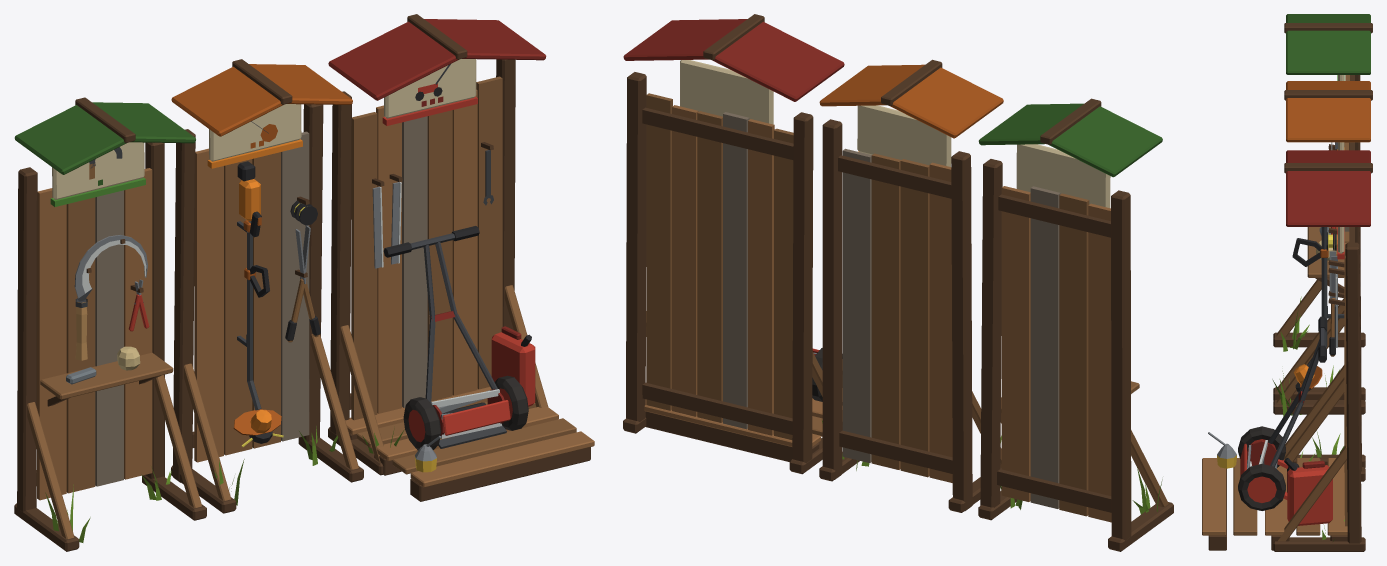
The model's file is ToolShop_Stand.fbx.
3 views of the same model, side by side, from view 1: azimuth 30°, elevation 25°; view 2: azimuth 150°, elevation 25°; view 3: azimuth 270°, elevation 25° (orthographic). The views are drawn at different scales.
Visible parts, largest first — view 1: MowerSection, SickleSection, TrimmerSection, Mower, Trimmer, Sickle; view 2: MowerSection, SickleSection, TrimmerSection; view 3: MowerSection, SickleSection, TrimmerSection, Mower, Trimmer.
Boxes of the visible parts, bbox=[...] form: MowerSection: bbox=[328, 14, 594, 501]; SickleSection: bbox=[14, 97, 206, 551]; TrimmerSection: bbox=[171, 59, 363, 513]; Mower: bbox=[383, 226, 528, 450]; Trimmer: bbox=[233, 161, 283, 446]; Sickle: bbox=[74, 235, 147, 360]; MowerSection: bbox=[623, 14, 844, 474]; SickleSection: bbox=[978, 98, 1173, 551]; TrimmerSection: bbox=[819, 59, 1003, 512]; MowerSection: bbox=[1202, 150, 1372, 551]; SickleSection: bbox=[1273, 14, 1372, 400]; TrimmerSection: bbox=[1272, 81, 1372, 467]; Mower: bbox=[1238, 316, 1326, 510]; Trimmer: bbox=[1292, 227, 1328, 392].
Size of the model in its own units: 2.75 by 2.09 by 0.925.
1 material, 1 textured.
